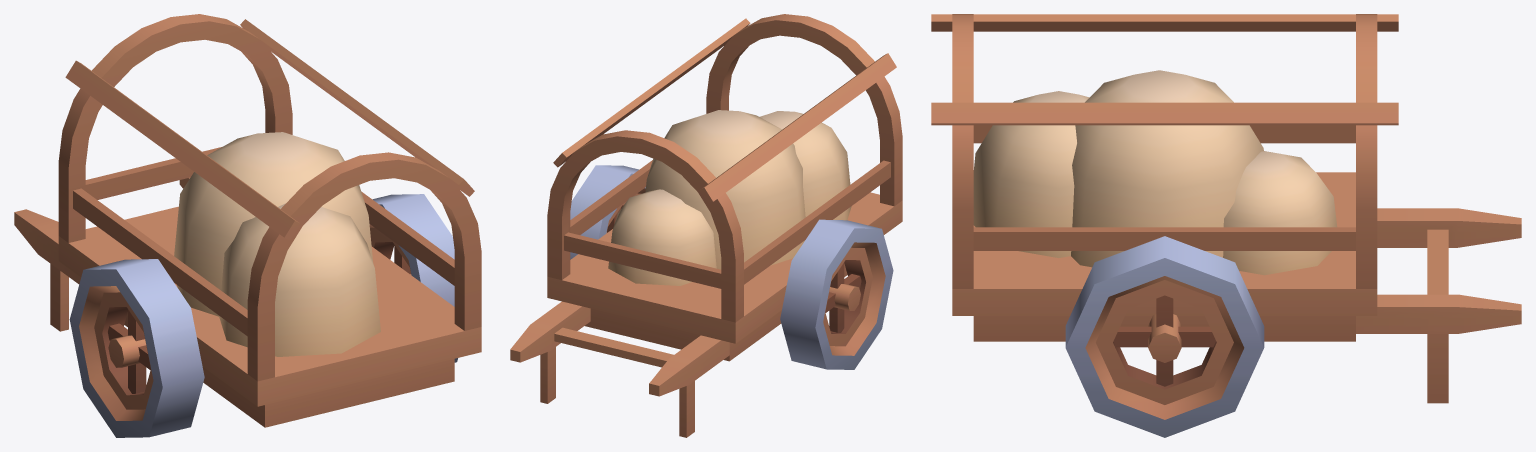
The model's file is k-fantasy-town-cart-high.glb.
3 renders of one model, left to right at view 1: azimuth 30°, elevation 25°; view 2: azimuth 150°, elevation 25°; view 3: azimuth 270°, elevation 25°, orthographic. The views are drawn at different scales.
Visible parts, largest first — view 1: cart-high, Group (×2); view 2: cart-high, Group (×2); view 3: cart-high, Group.
Boxes of the visible parts, x1=… form: cart-high: x1=14, y1=14, x2=481, y2=427; Group (×2): x1=69, y1=194, x2=457, y2=437; cart-high: x1=510, y1=14, x2=902, y2=437; Group (×2): x1=570, y1=165, x2=893, y2=369; cart-high: x1=931, y1=14, x2=1521, y2=403; Group: x1=1065, y1=236, x2=1264, y2=437.
Size of the model in its own units: 0.893 by 0.8605 by 1.39.
Materials: 1 (1 with a texture image).
